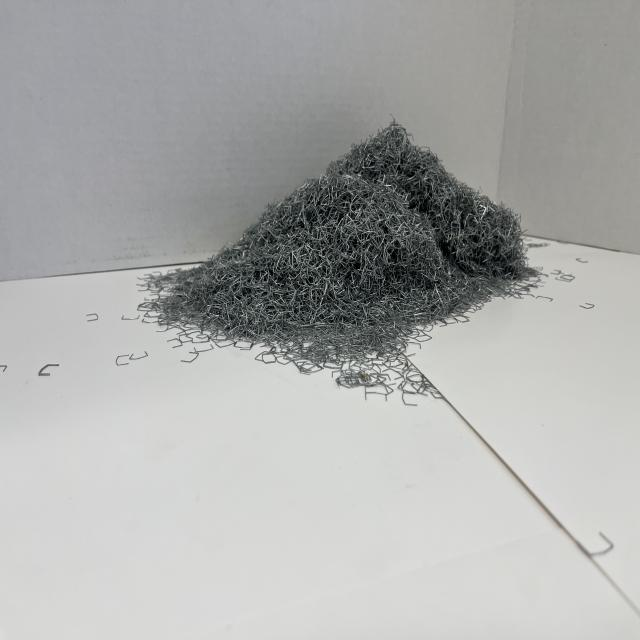staples: (139, 115, 532, 372)
